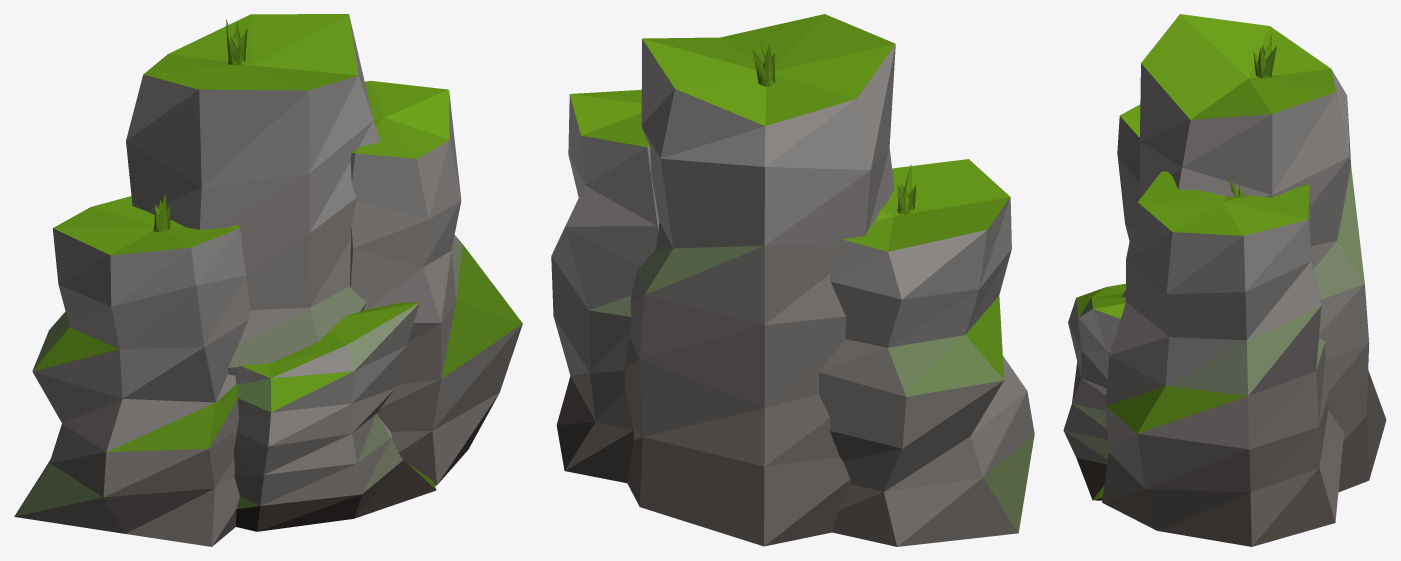
Rendered from batu_cliff_limestone_105106.glb.
3 views of the same model, side by side, from view 1: azimuth 30°, elevation 25°; view 2: azimuth 150°, elevation 25°; view 3: azimuth 270°, elevation 25° (orthographic). The views are drawn at different scales.
Visible parts, largest first — view 1: Tebing_Sungai_Curam; view 2: Tebing_Sungai_Curam; view 3: Tebing_Sungai_Curam.
Part boxes in pixels (<box>): Tebing_Sungai_Curam: <box>14,14,522,546</box>; Tebing_Sungai_Curam: <box>551,14,1034,546</box>; Tebing_Sungai_Curam: <box>1063,14,1386,546</box>.
Bounding box in the file's own units: 7.45 × 6.79 × 4.8.
